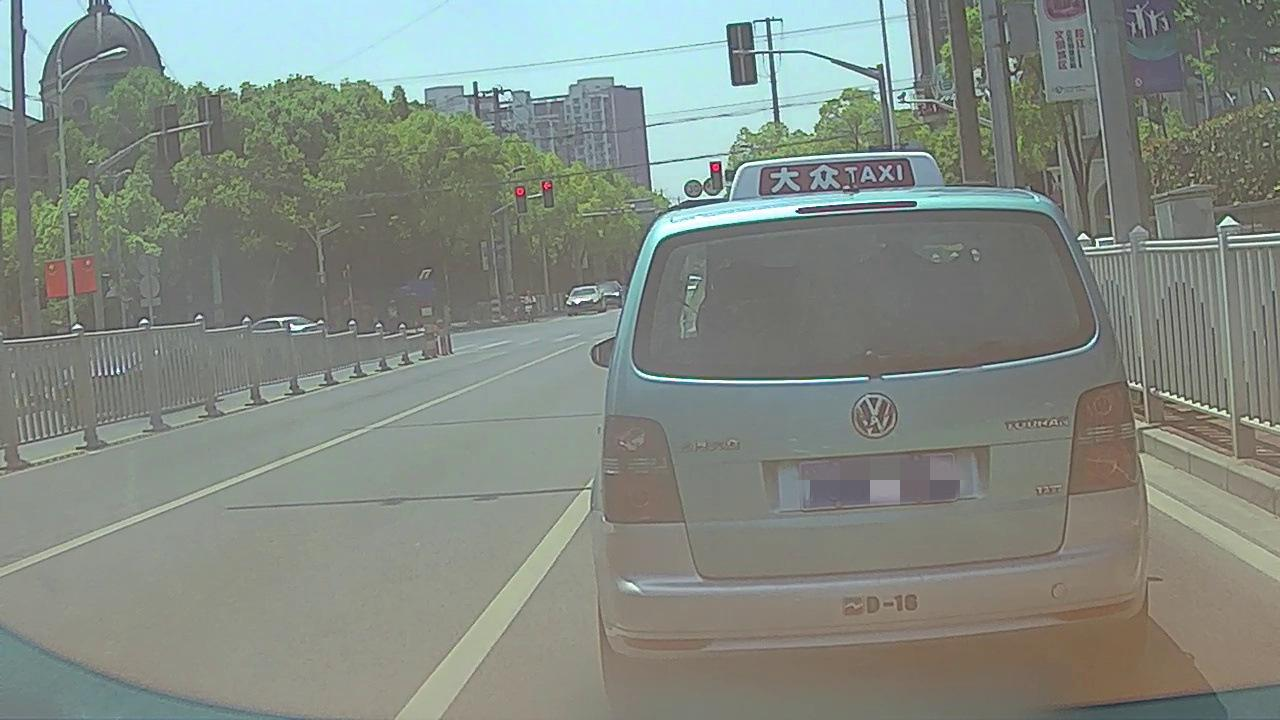traffic_light: (711, 161, 723, 190), (542, 181, 553, 208), (517, 186, 527, 212)
